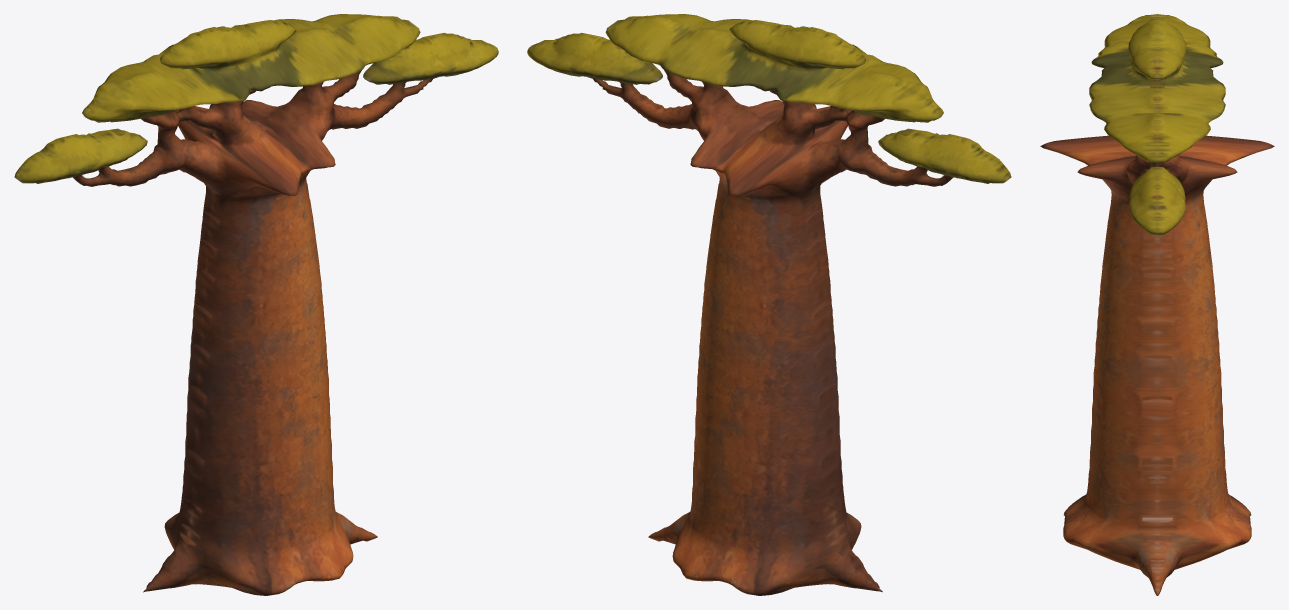
Rendered from 25_trees_d_r01_c00.glb.
3 views of the same model, side by side, from view 1: azimuth 30°, elevation 25°; view 2: azimuth 150°, elevation 25°; view 3: azimuth 270°, elevation 25° (orthographic). The views are drawn at different scales.
Parts seen in each view (by area): view 1: 25_trees_d_r01_c00; view 2: 25_trees_d_r01_c00; view 3: 25_trees_d_r01_c00.
Part boxes in pixels (box(x1,y1,x2,y2)): 25_trees_d_r01_c00: box(14, 14, 498, 595); 25_trees_d_r01_c00: box(527, 14, 1011, 595); 25_trees_d_r01_c00: box(1040, 14, 1274, 595).
Size of the model in its own units: 5.48 by 6 by 2.56.
1 material, 1 textured.
